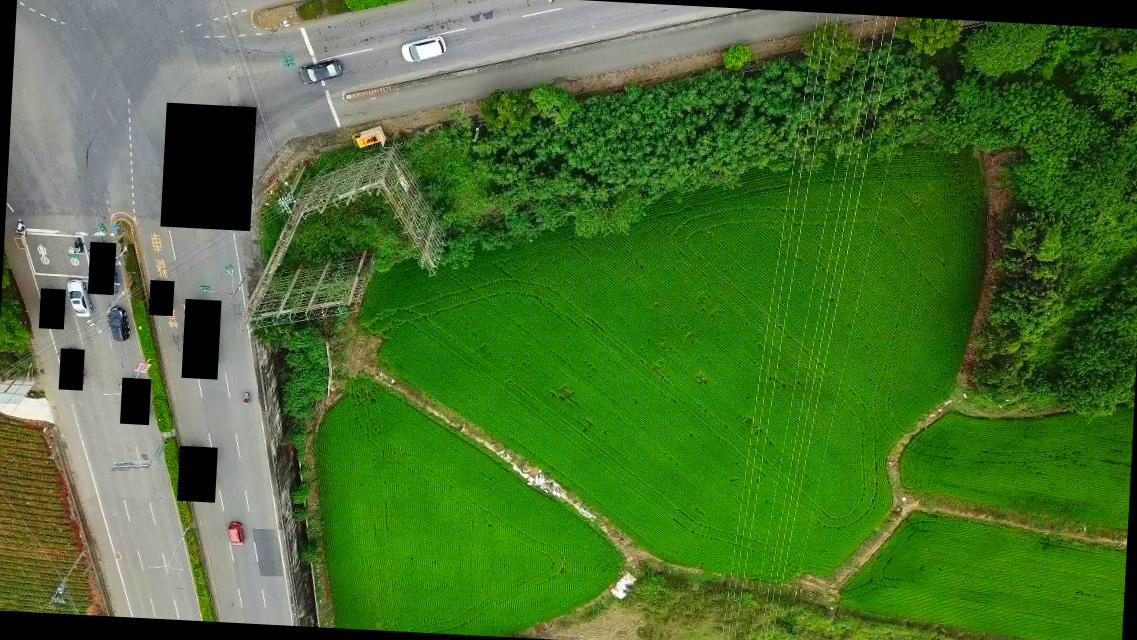vehicle: (399, 33, 448, 65), (297, 60, 344, 90), (66, 277, 94, 319), (106, 308, 130, 345), (348, 126, 381, 151), (225, 522, 245, 548)
